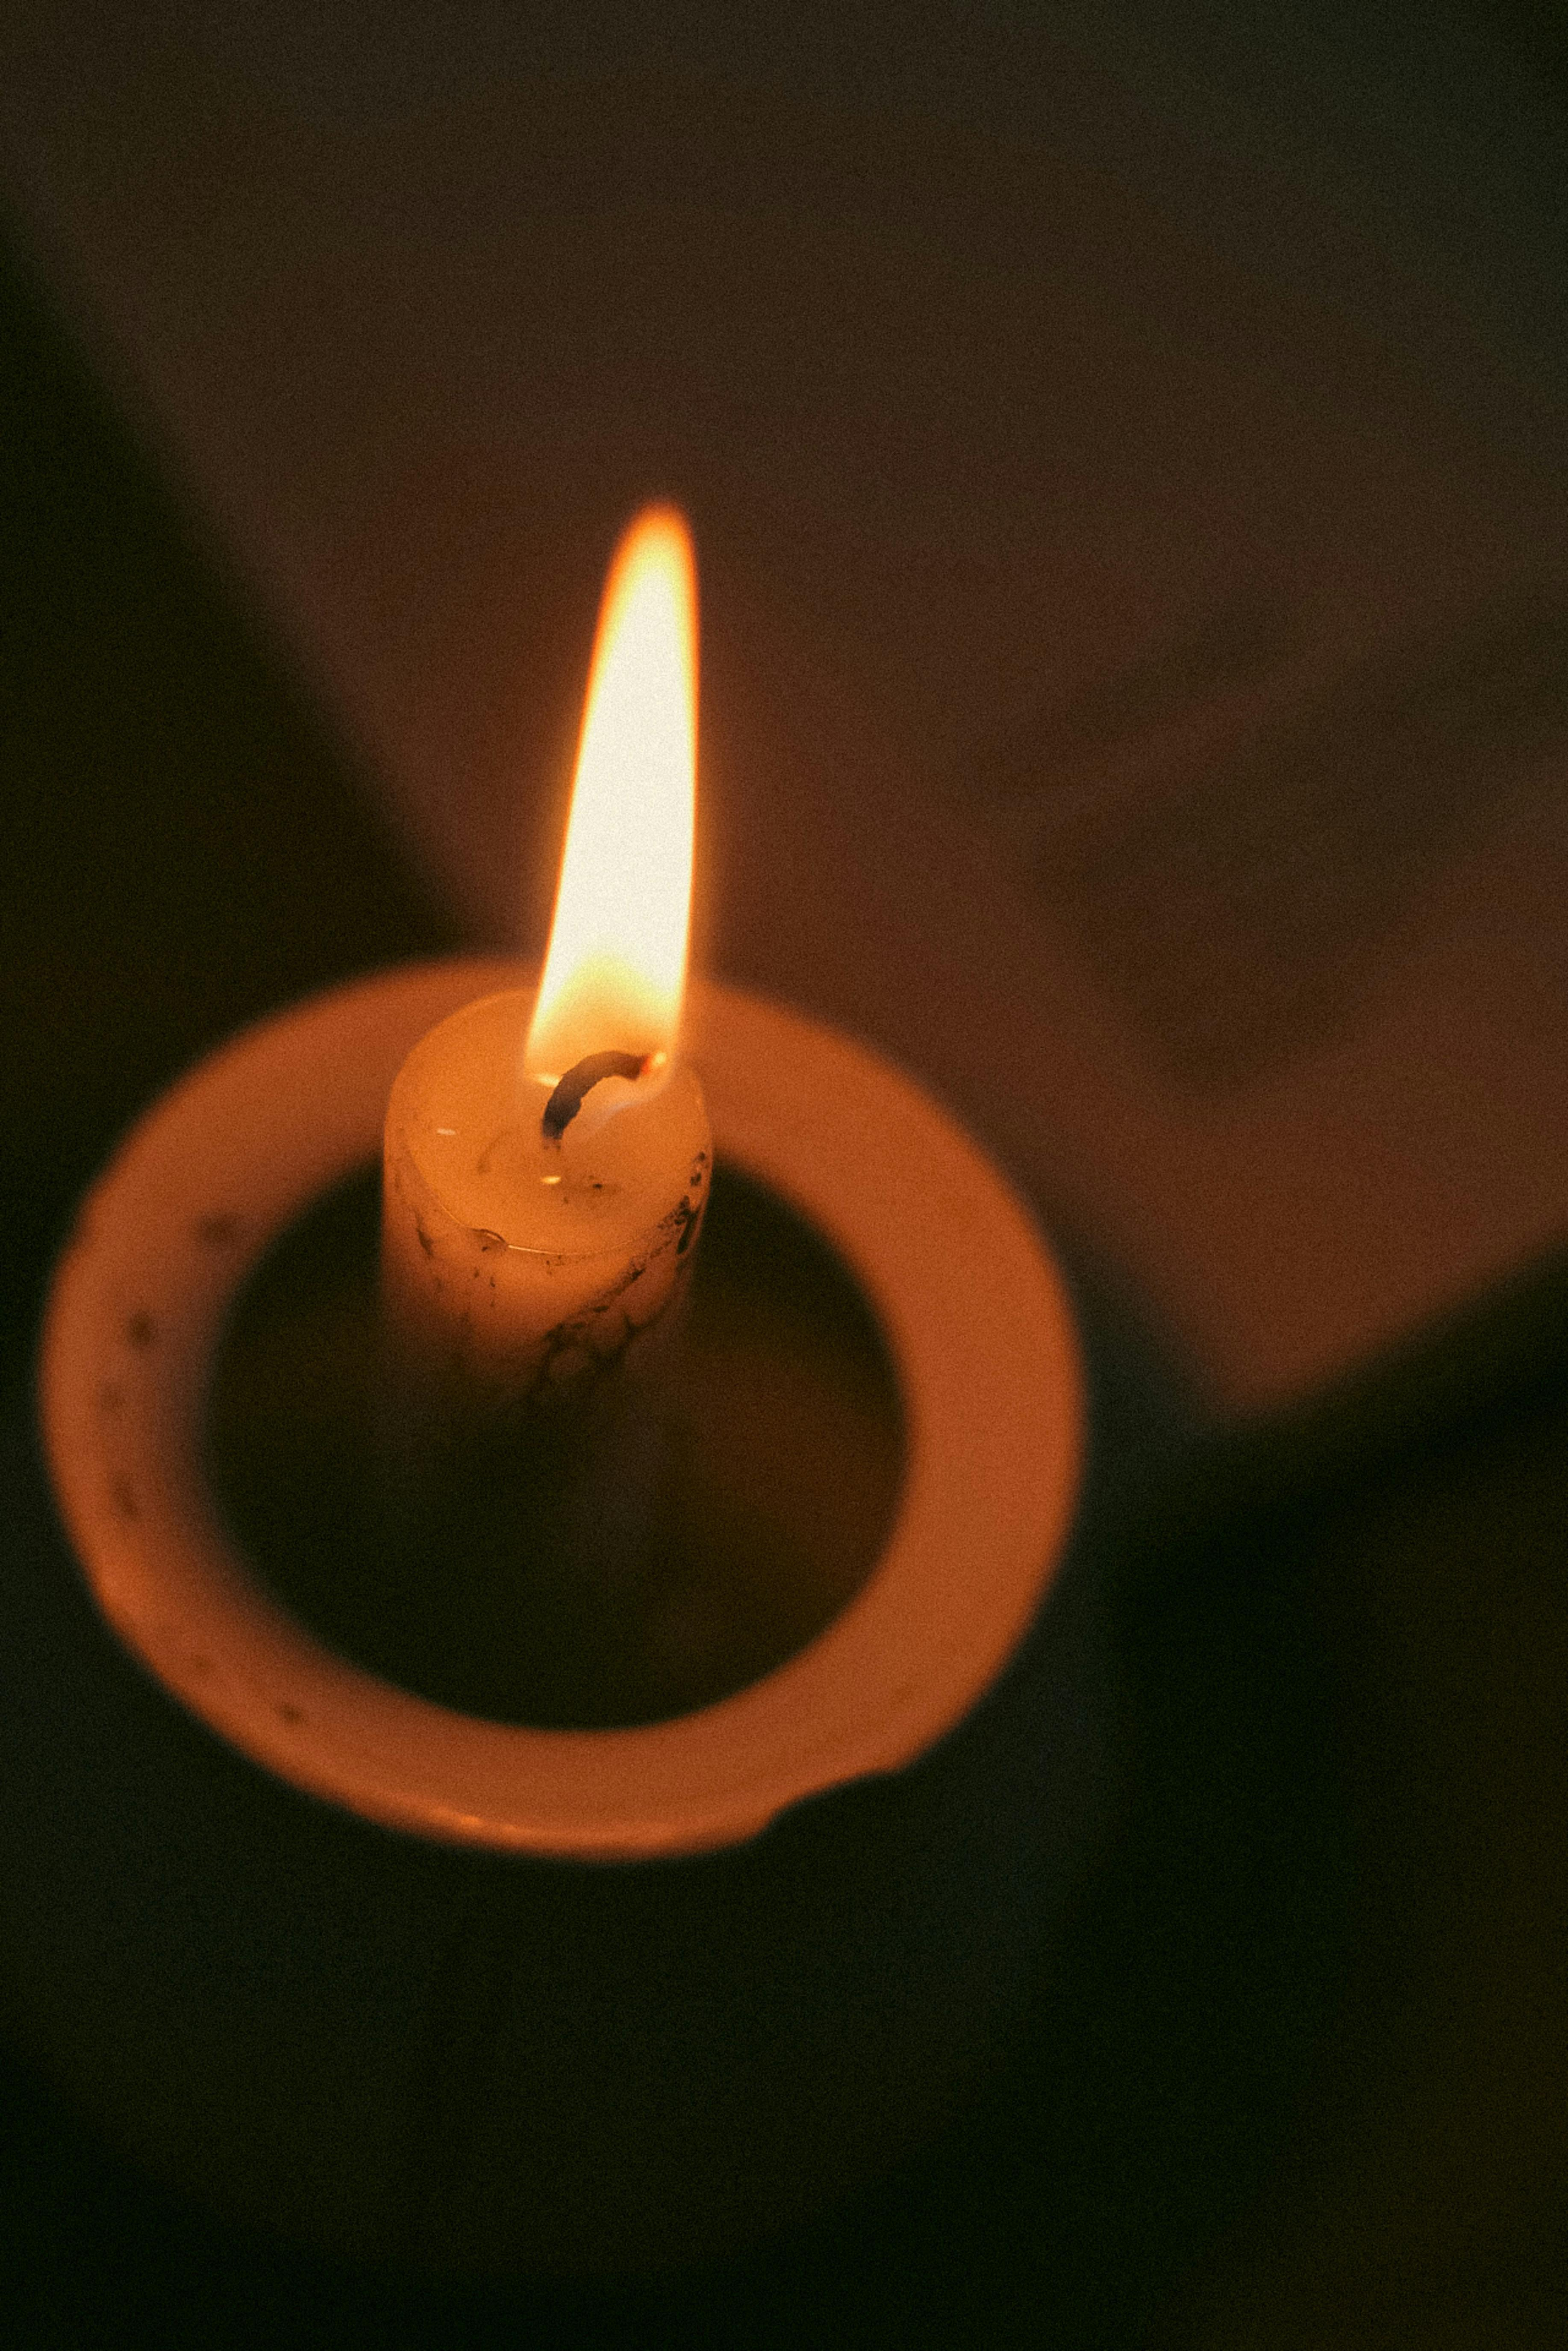Fire: (497, 483, 744, 1162)
